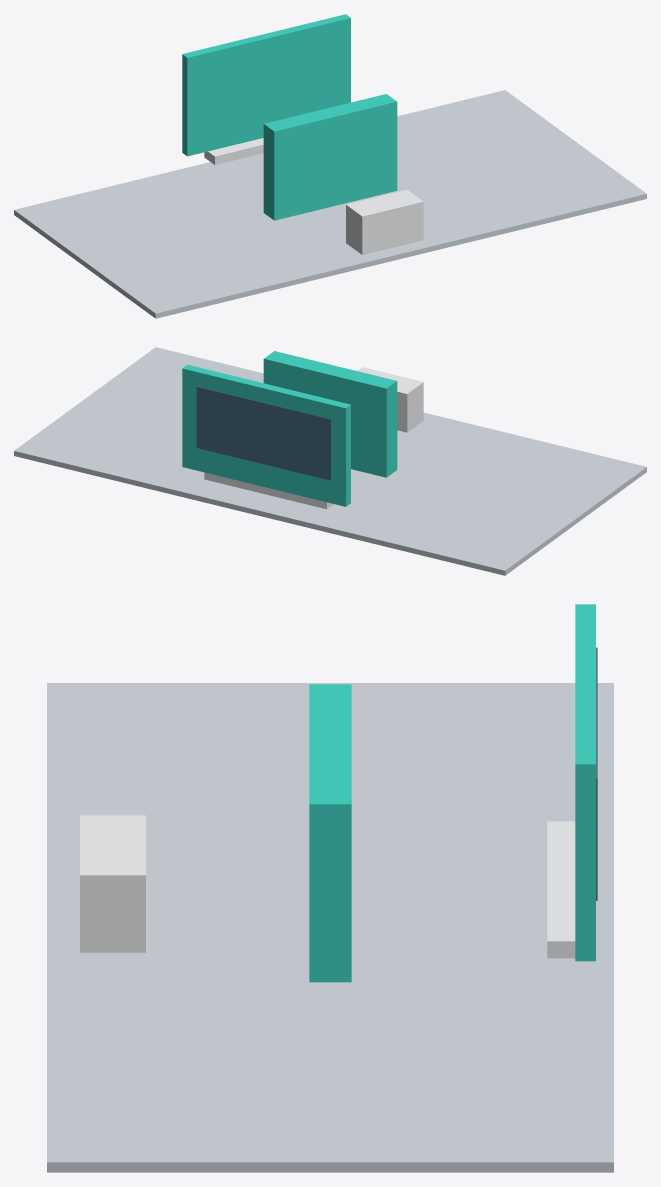
3 views of the same model, one above another, from view 1: azimuth 30°, elevation 25°; view 2: azimuth 150°, elevation 25°; view 3: azimuth 270°, elevation 25° (orthographic). The views are drawn at different scales.
Visible parts, largest first — view 1: Exhibition Booth Concept; view 2: Exhibition Booth Concept; view 3: Exhibition Booth Concept.
Boxes of the visible parts, x1,y1,x2,y2 form: Exhibition Booth Concept: (14, 14, 646, 318); Exhibition Booth Concept: (14, 347, 646, 575); Exhibition Booth Concept: (47, 604, 613, 1172).
Size of the model in its own units: 12 by 2.9 by 6.
